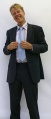male: (6, 3, 34, 28)
